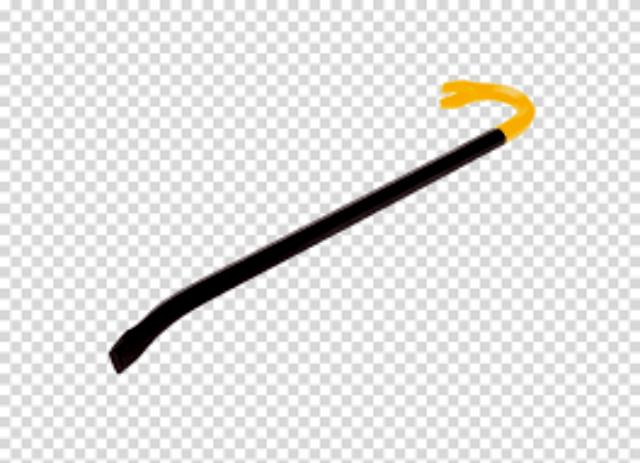crow bar: (95, 70, 539, 376)
